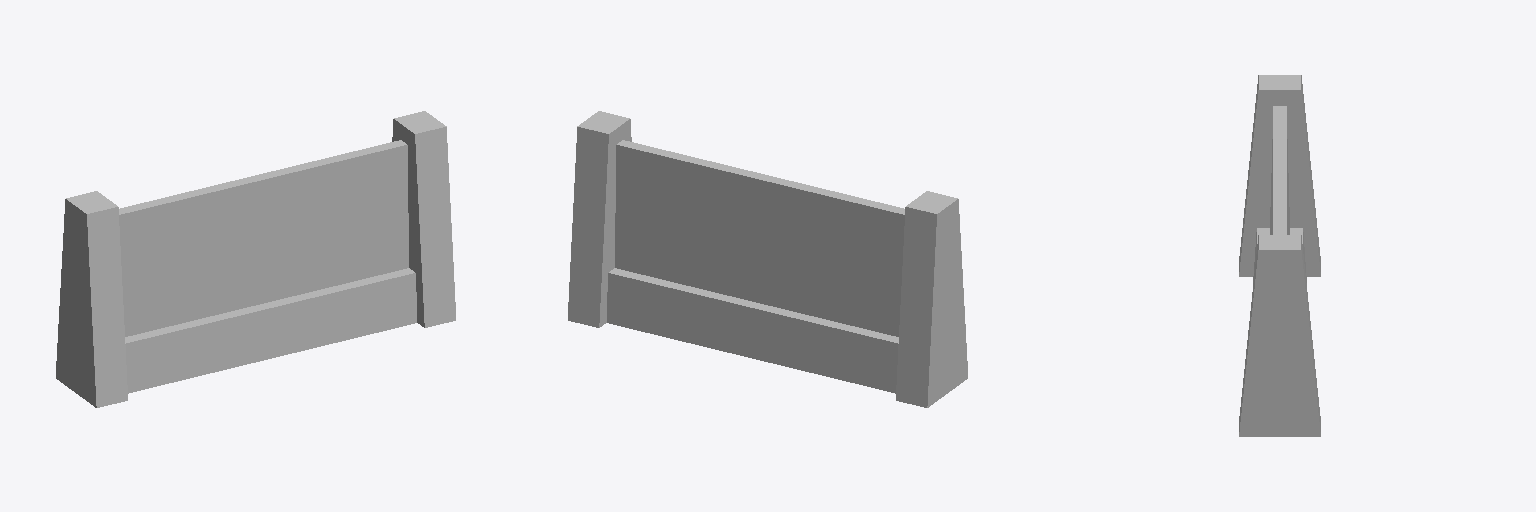
Rendered from mdl_wall.obj.
3 renders of one model, left to right at view 1: azimuth 30°, elevation 25°; view 2: azimuth 150°, elevation 25°; view 3: azimuth 270°, elevation 25°, orthographic.
Visible parts, largest first — view 1: Box004, Box001, Box002, Box003; view 2: Box004, Box001, Box002, Box003; view 3: Box003, Box002, Box004.
Boxes of the visible parts, <box> form: Box004: <box>119,140,408,336</box>; Box001: <box>125,268,416,393</box>; Box002: <box>56,191,127,407</box>; Box003: <box>392,111,455,327</box>; Box004: <box>615,140,904,336</box>; Box001: <box>607,268,898,393</box>; Box002: <box>896,191,967,407</box>; Box003: <box>568,111,631,327</box>; Box003: <box>1239,235,1320,436</box>; Box002: <box>1239,75,1320,276</box>; Box004: <box>1270,106,1289,234</box>.
Size of the model in its own units: 82.06 by 40.72 by 16.23.